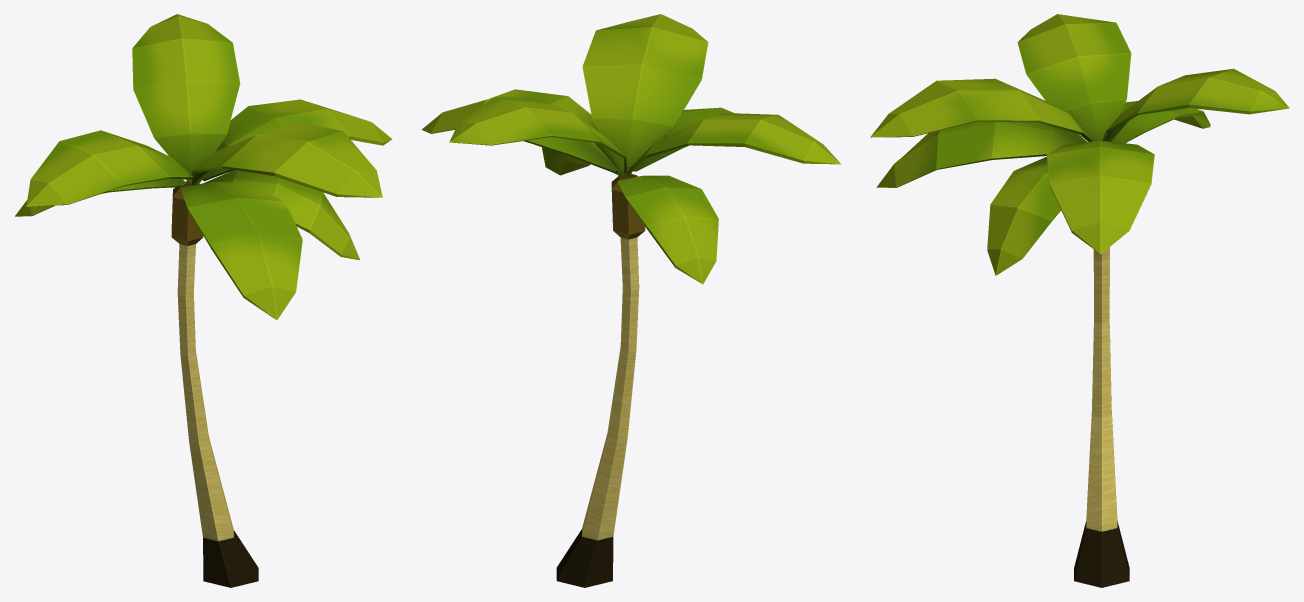
Rendered from ad839a95-7c91-432e-a2bd-9f9169dfc6e5.glb.
The picture shows the model from 3 angles, left to right: view 1: azimuth 30°, elevation 25°; view 2: azimuth 150°, elevation 25°; view 3: azimuth 270°, elevation 25°; orthographic projection.
Parts seen in each view (by area): view 1: PalmTree_mesh; view 2: PalmTree_mesh; view 3: PalmTree_mesh.
Part boxes in pixels (x1,y1,x2,y2): PalmTree_mesh: [15, 14, 392, 587]; PalmTree_mesh: [421, 14, 840, 587]; PalmTree_mesh: [870, 14, 1289, 587].
Bounding box in the file's own units: 7.34 × 8.93 × 6.81.
Materials: 1 (1 with a texture image).
